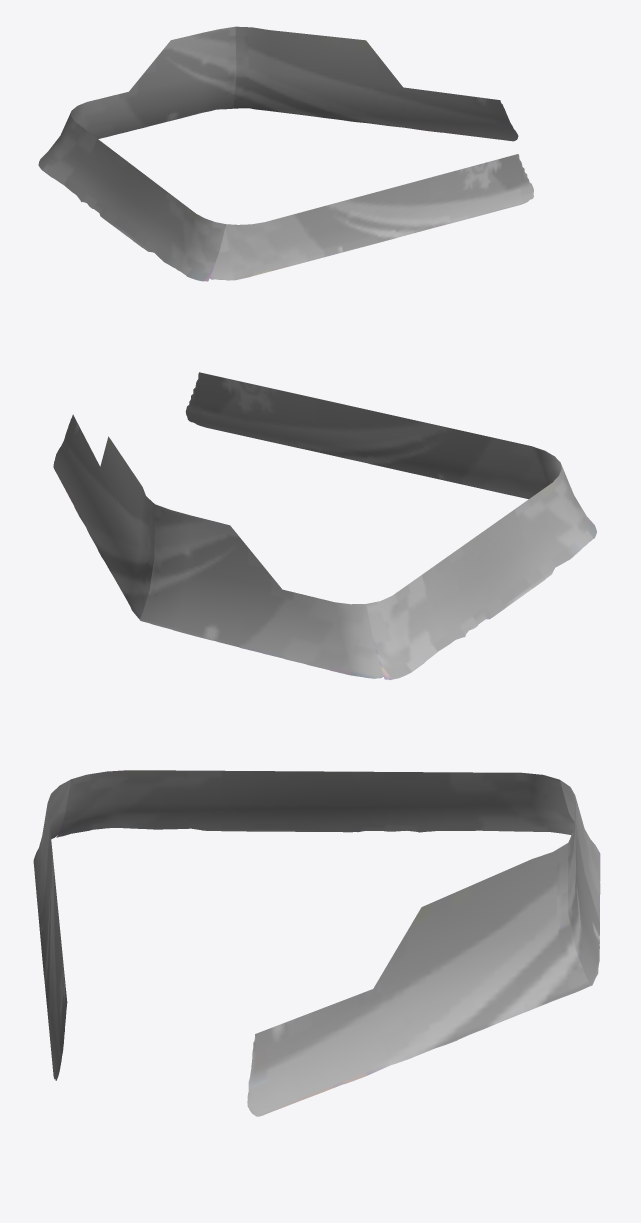
The model's file is pref_sm_beach_winter_techobstacle07d_a_mirror_lv3.fbx.
The picture shows the model from 3 angles, top to bottom: view 1: azimuth 30°, elevation 25°; view 2: azimuth 150°, elevation 25°; view 3: azimuth 270°, elevation 25°; orthographic projection. The views are drawn at different scales.
Parts seen in each view (by area): view 1: pref_sm_beach_winter_techobstacle07d_a_mirror_lv3; view 2: pref_sm_beach_winter_techobstacle07d_a_mirror_lv3; view 3: pref_sm_beach_winter_techobstacle07d_a_mirror_lv3.
Boxes of the visible parts, left/top/right/bottom form: pref_sm_beach_winter_techobstacle07d_a_mirror_lv3: left=38, top=26, right=533, bottom=281; pref_sm_beach_winter_techobstacle07d_a_mirror_lv3: left=53, top=372, right=596, bottom=680; pref_sm_beach_winter_techobstacle07d_a_mirror_lv3: left=33, top=770, right=600, bottom=1116.
Size of the model in its own units: 8.35 by 2.13 by 6.06.
